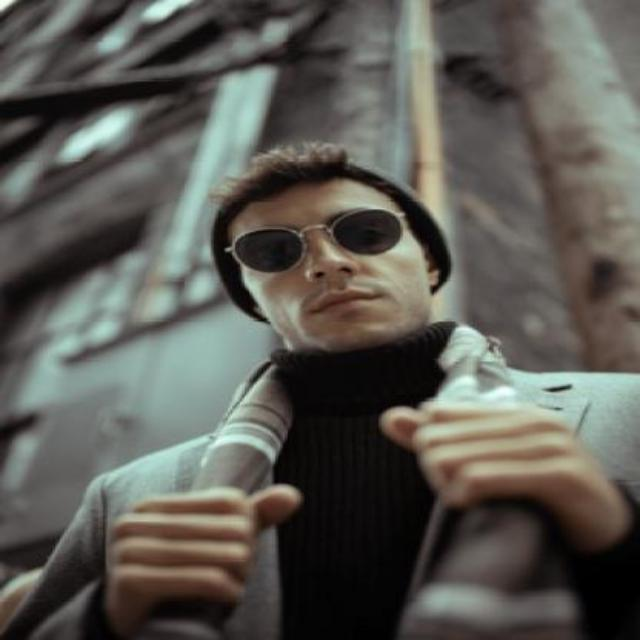sunglasses: (220, 208, 408, 270)
